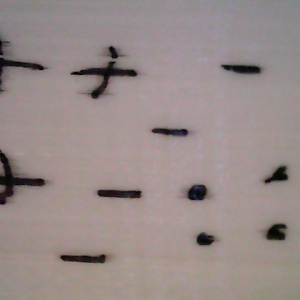3dpdot: (260, 159, 300, 195), (176, 179, 222, 207), (257, 217, 295, 248), (186, 224, 229, 251)
3dpminus: (52, 234, 119, 280), (87, 175, 152, 210), (218, 58, 269, 90), (148, 118, 192, 147)
3dpplus: (70, 40, 136, 112), (1, 145, 51, 209), (2, 32, 46, 94)
